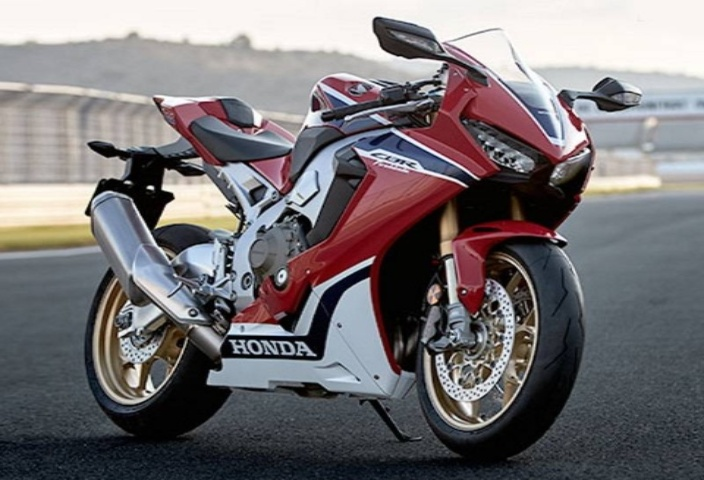motorcycle: (67, 14, 668, 458)
